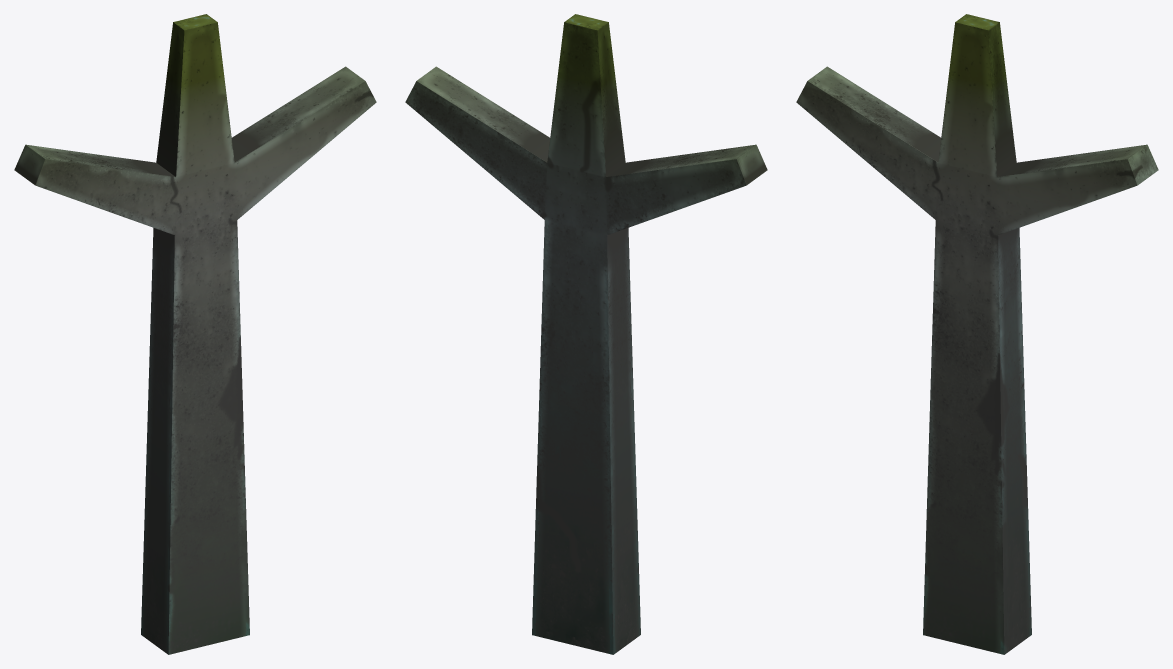
Rendered from SM_grave_cross.fbx.
The picture shows the model from 3 angles, left to right: view 1: azimuth 30°, elevation 25°; view 2: azimuth 150°, elevation 25°; view 3: azimuth 330°, elevation 25°; orthographic projection.
Visible parts, largest first — view 1: gravestone2; view 2: gravestone2; view 3: gravestone2.
Part boxes in pixels (x1,y1,x2,y2): gravestone2: (14, 14, 376, 654); gravestone2: (405, 14, 767, 654); gravestone2: (796, 14, 1158, 654).
Bounding box in the file's own units: 40.88 × 70.11 × 5.72.
1 material, 1 textured.
